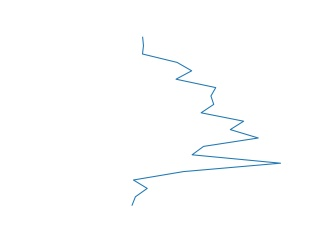floodSwamp: (127, 36, 289, 207)
